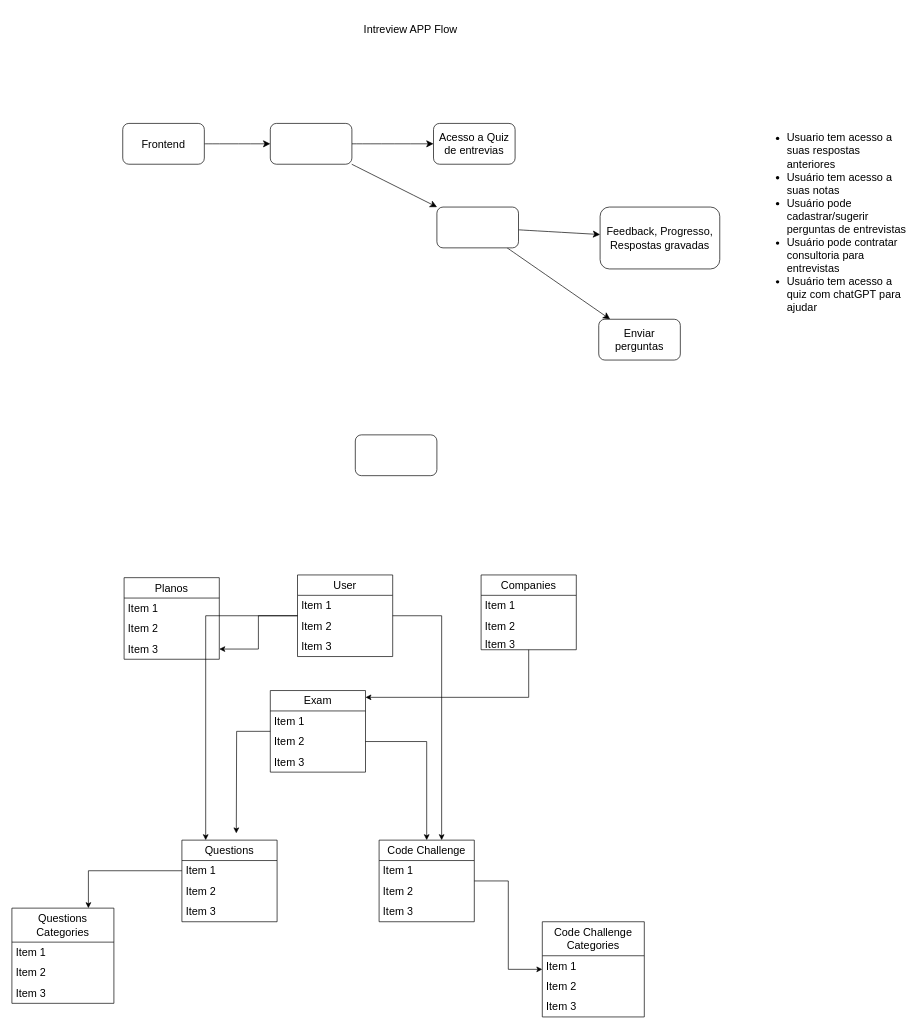
Some shapes in this 920 by 1029 pixel diagram are drawn without their labels. The centre of each missing label's shape, as x and y in pixels:
"Area Logada" belongs at (x=477, y=227).
"Backend" belongs at (x=396, y=455).
"Dashboard" belongs at (x=311, y=143).
